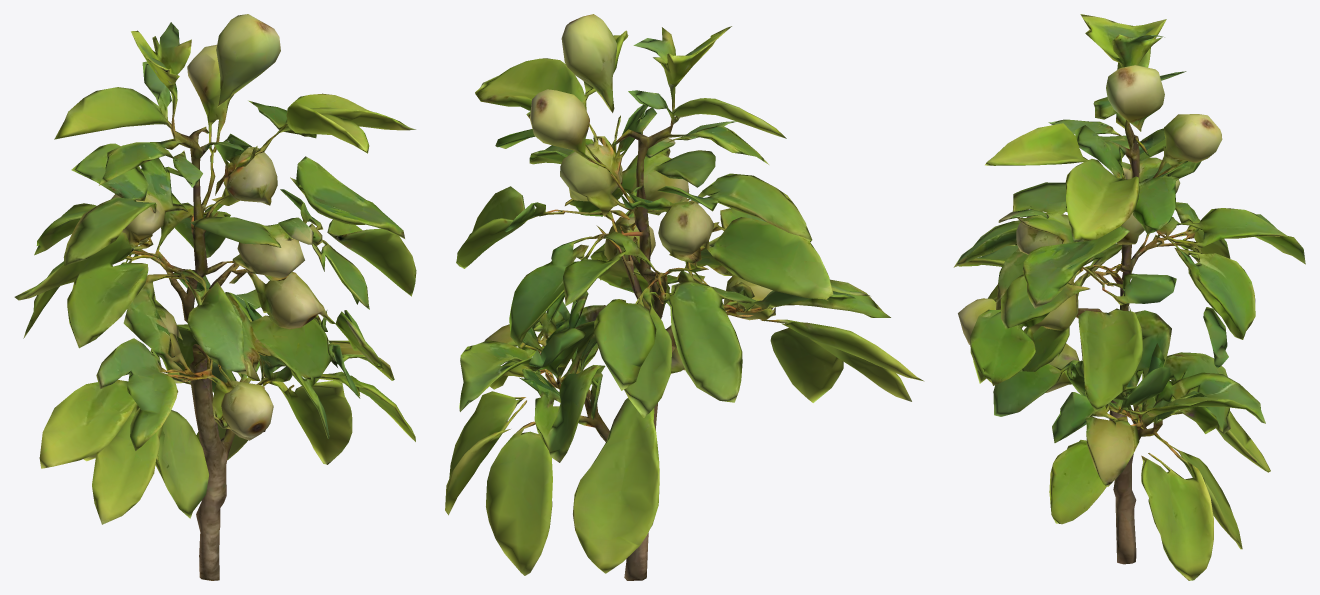
File: amla.glb
3 views of the same model, side by side, from view 1: azimuth 30°, elevation 25°; view 2: azimuth 150°, elevation 25°; view 3: azimuth 270°, elevation 25° (orthographic). The views are drawn at different scales.
Parts seen in each view (by area): view 1: Object_4; view 2: Object_4; view 3: Object_4.
Part boxes in pixels (x1,y1,x2,y2): Object_4: (14,14,416,580); Object_4: (445,14,924,580); Object_4: (953,14,1305,580).
Bounding box in the file's own units: 1.58 × 2 × 1.24.
1 material, 1 textured.
